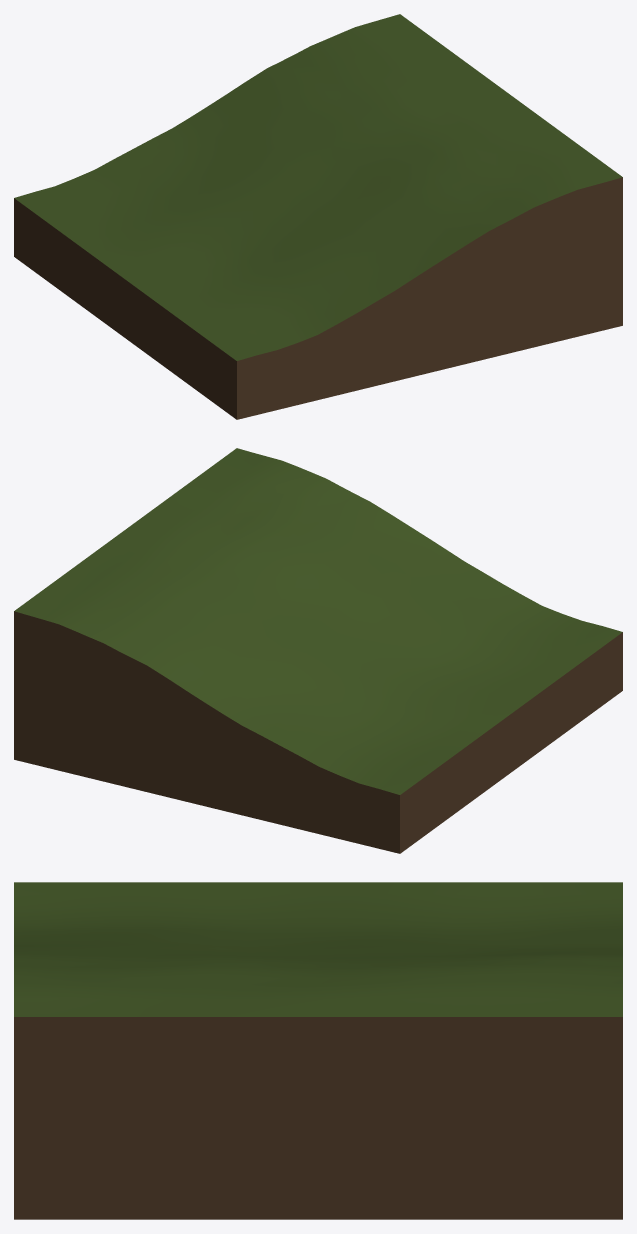
The picture shows the model from 3 angles, top to bottom: view 1: azimuth 30°, elevation 25°; view 2: azimuth 150°, elevation 25°; view 3: azimuth 270°, elevation 25°; orthographic projection. The views are drawn at different scales.
Visible parts, largest first — view 1: c1go; view 2: c1go; view 3: c1go.
Boxes of the visible parts, x1=… form: c1go: x1=14, y1=14, x2=622, y2=419; c1go: x1=14, y1=448, x2=622, y2=853; c1go: x1=14, y1=882, x2=622, y2=1219.
Bounding box in the file's own units: 9 × 3.31 × 9.
